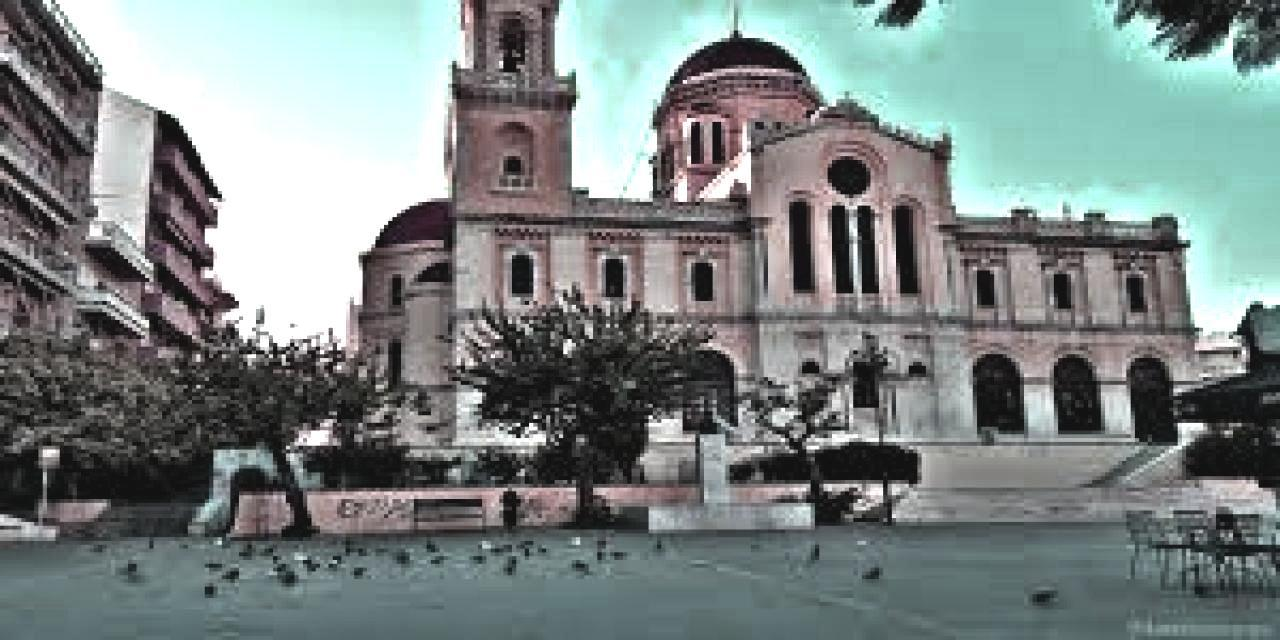Agios Minas: (347, 5, 1210, 484)
